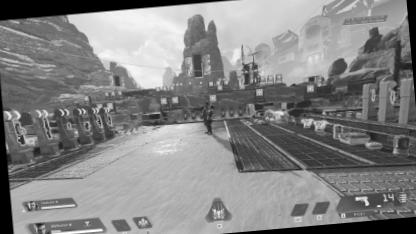Target: (201, 100, 215, 134)
